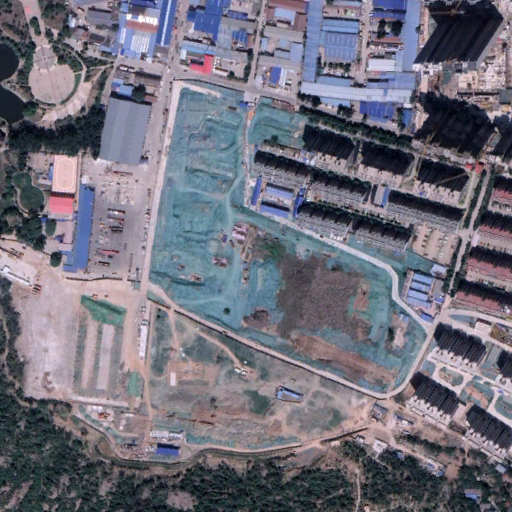cw: (148, 82, 430, 452)
